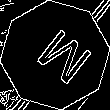M_SW: (21, 21, 89, 89)
